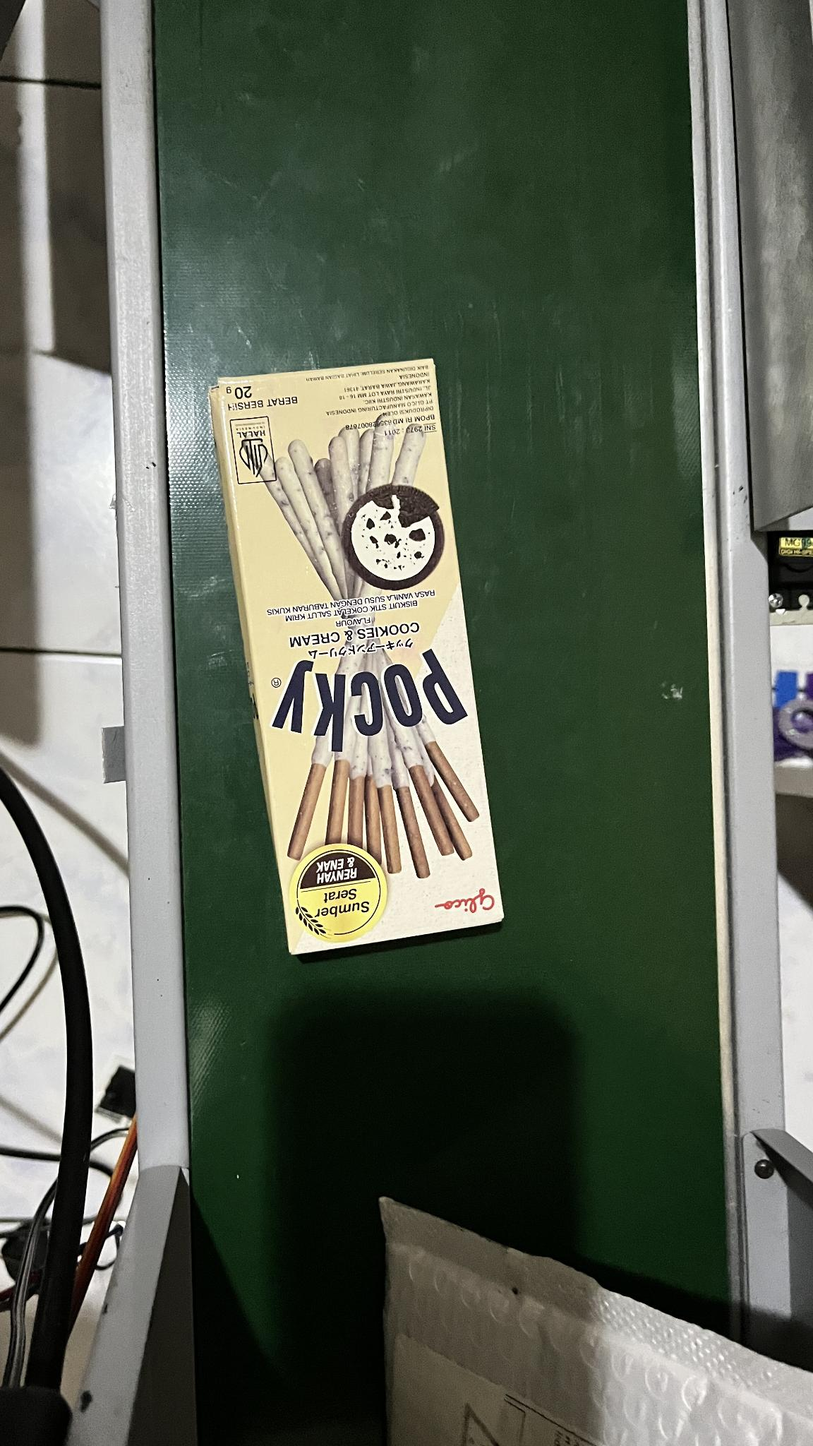Kertas: (219, 380, 516, 968)
